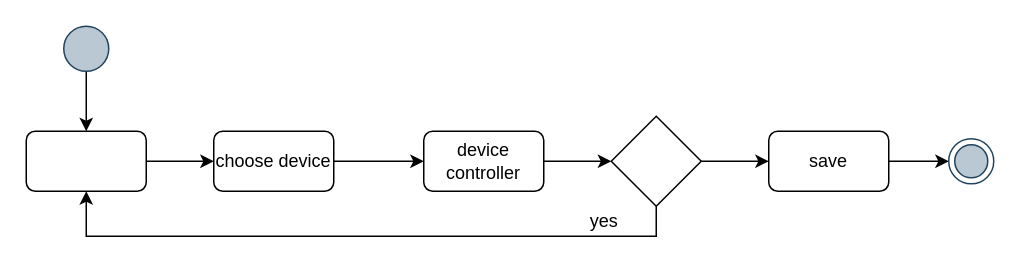
This 1020x275 diagram has some shape labels left out. The centre of each missing label's shape, as x and y in pixels:
another dev?: the point at 655,160
devices: the point at 85,160
